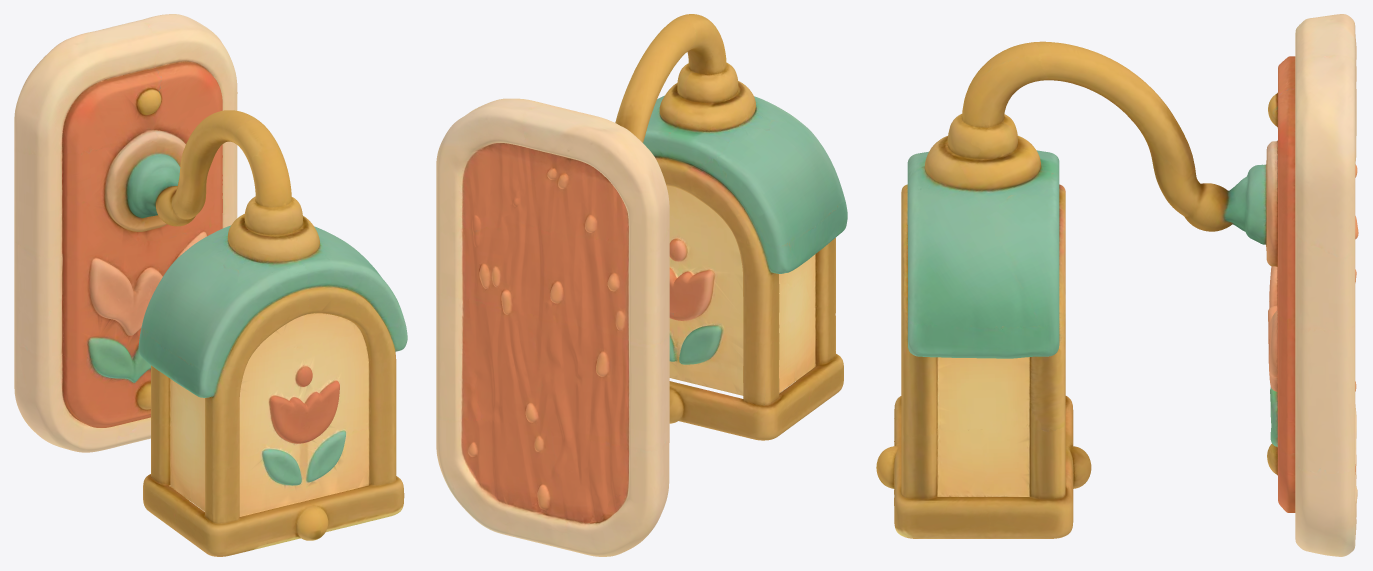
Rendered from Meshy_AI_model.glb.
The picture shows the model from 3 angles, left to right: view 1: azimuth 30°, elevation 25°; view 2: azimuth 150°, elevation 25°; view 3: azimuth 270°, elevation 25°; orthographic projection. The views are drawn at different scales.
Visible parts, largest first — view 1: mesh_node; view 2: mesh_node; view 3: mesh_node.
Part boxes in pixels (bbox=[...]): mesh_node: bbox=[14, 14, 407, 556]; mesh_node: bbox=[436, 14, 847, 556]; mesh_node: bbox=[876, 14, 1358, 556].
Size of the model in its own units: 1.06 by 1.9 by 1.72.
Materials: 1 (1 with a texture image).
